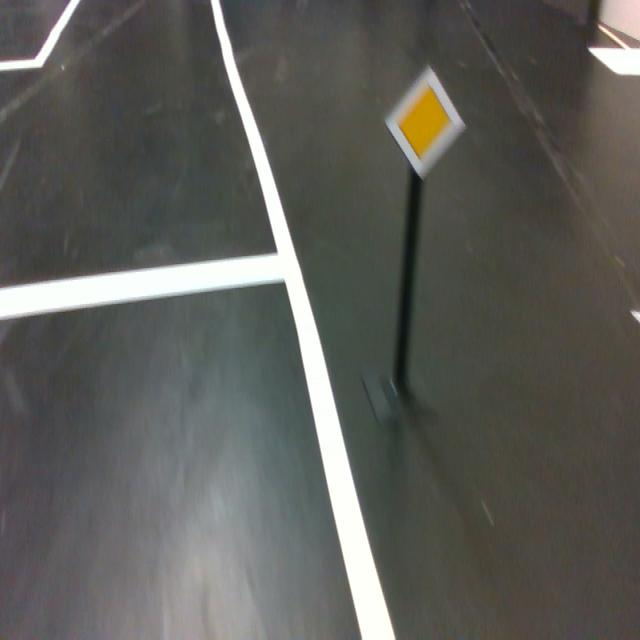priority-sign: (384, 64, 466, 182)
